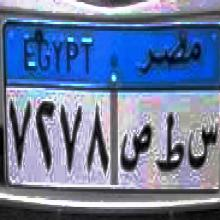2: (35, 97, 57, 175)
7: (8, 92, 32, 178), (59, 102, 82, 178)
8: (86, 103, 108, 180)
Taa: (155, 107, 185, 182)
saad: (119, 114, 152, 180)
seen: (184, 112, 219, 184)
